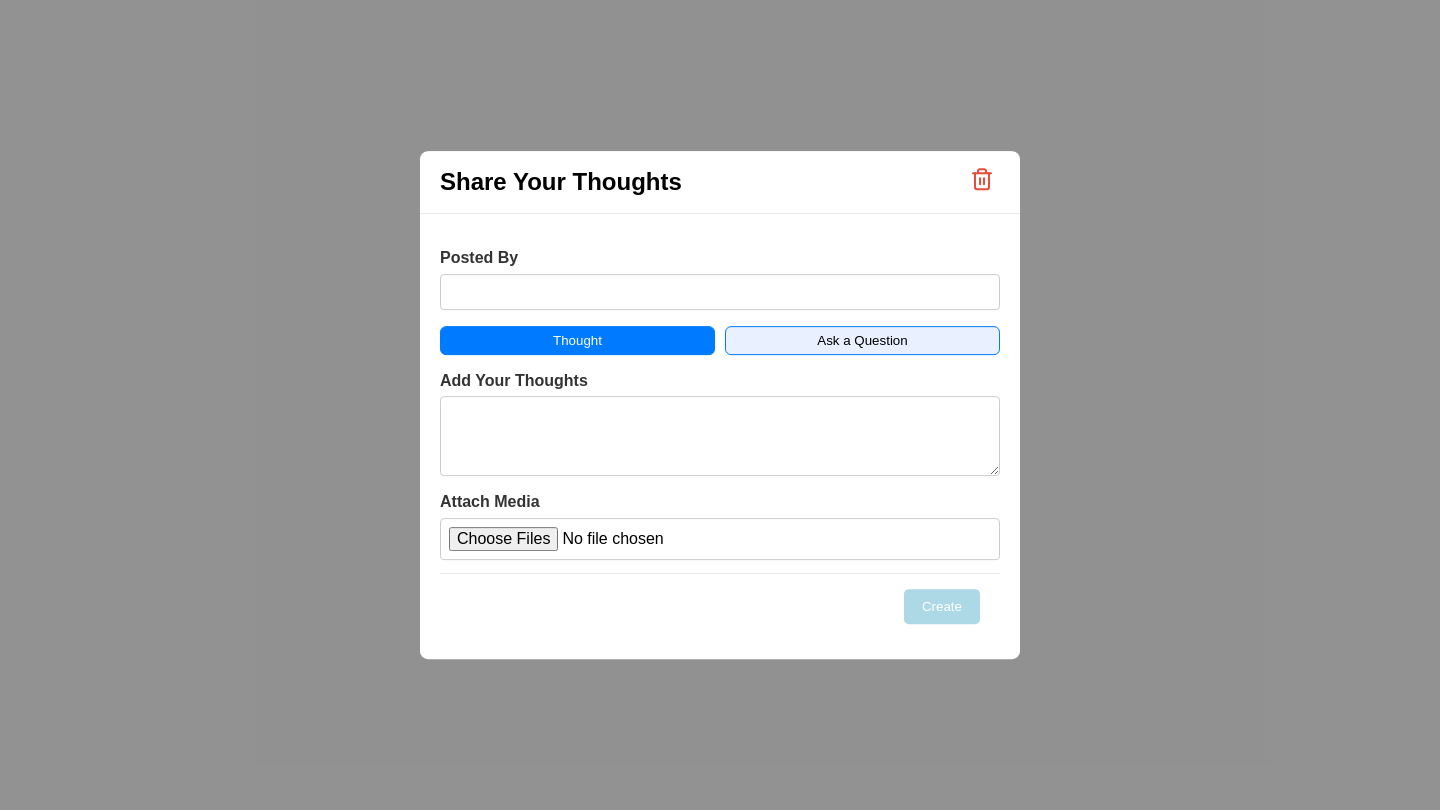
Test: PostModal Component › switches to question mode and renders question-specific fields
Click the button "Ask a Question" at (862,341), box [725,326,1000,355]
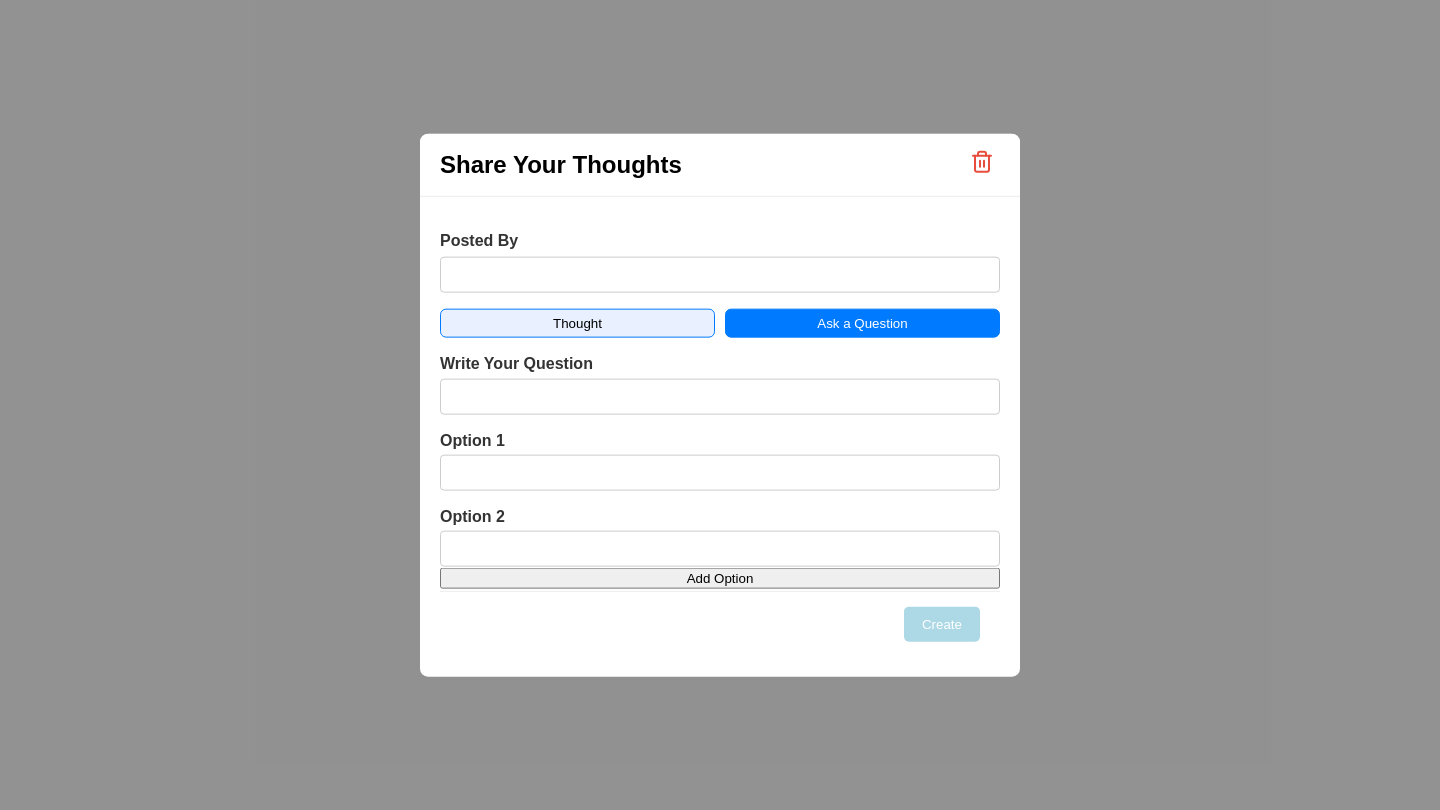
expect the text "Write Your Question" is shown: met, box [440,354,593,371]
expect the field labelled "Option 1" is shown: met, box [440,455,1000,491]
expect the field labelled "Option 2" is shown: met, box [440,530,1000,566]
